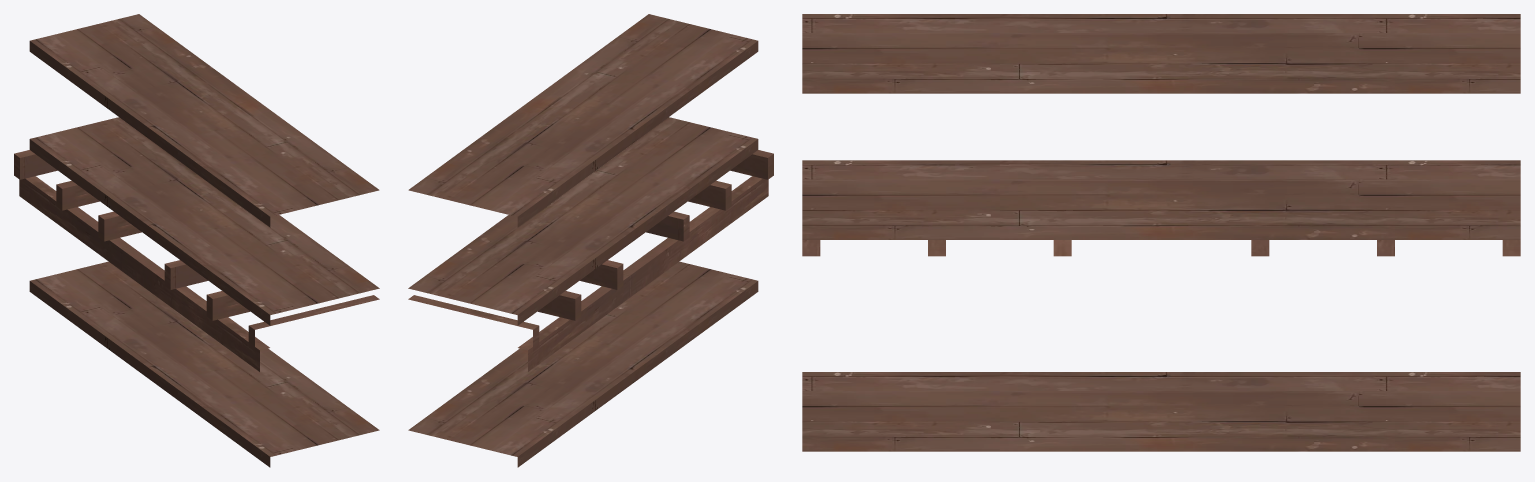
The picture shows the model from 3 angles, left to right: view 1: azimuth 30°, elevation 25°; view 2: azimuth 150°, elevation 25°; view 3: azimuth 270°, elevation 25°; orthographic projection. The views are drawn at different scales.
Parts seen in each view (by area): view 1: body0_model0_lod0_mesh1, body0_model0_lod0_mesh0; view 2: body0_model0_lod0_mesh1, body0_model0_lod0_mesh0; view 3: body0_model0_lod0_mesh1, body0_model0_lod0_mesh0.
Part boxes in pixels (box(x1,y1,x2,y2)): body0_model0_lod0_mesh1: box(29, 14, 379, 467); body0_model0_lod0_mesh0: box(14, 150, 379, 371); body0_model0_lod0_mesh1: box(408, 14, 758, 467); body0_model0_lod0_mesh0: box(408, 150, 773, 371); body0_model0_lod0_mesh1: box(802, 14, 1520, 451); body0_model0_lod0_mesh0: box(802, 240, 1520, 256).
Size of the model in its own units: 95.99 by 184 by 320.
Materials: 2 (2 with a texture image).
